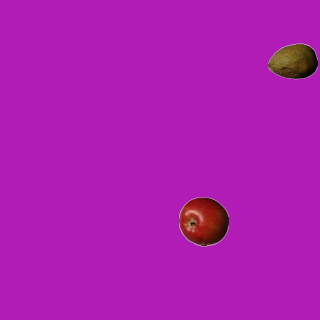Apple Braeburn: (178, 196, 228, 246)
Papaya: (267, 36, 317, 86)
